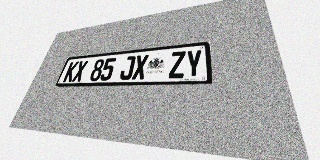5: (99, 58, 117, 81)
8: (89, 59, 106, 81)
J: (119, 56, 136, 80)
K: (62, 61, 79, 82)
X: (131, 54, 149, 80), (71, 60, 88, 82)
Y: (185, 49, 202, 78)
Z: (169, 51, 186, 78)
